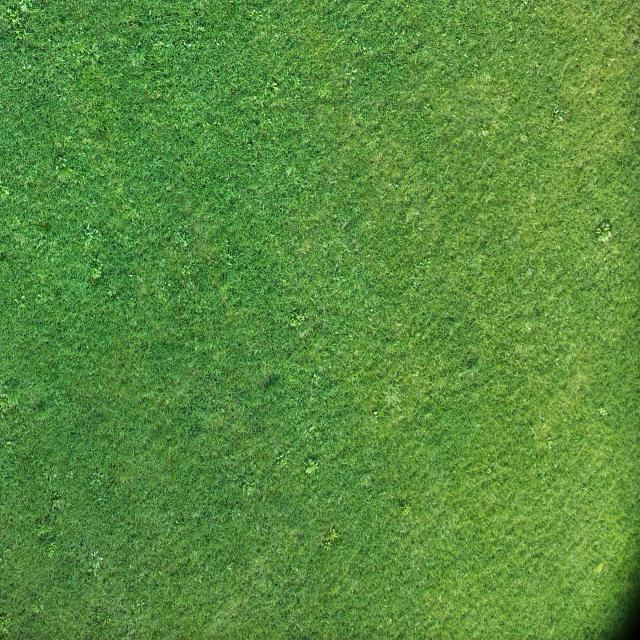rumex: (356, 350, 421, 440), (582, 221, 636, 302), (284, 304, 346, 356), (2, 378, 60, 428), (360, 140, 404, 184), (244, 3, 288, 42), (347, 27, 379, 68), (52, 151, 77, 185), (122, 35, 148, 66), (239, 464, 263, 495), (80, 226, 98, 249), (291, 310, 310, 329), (322, 526, 340, 546), (0, 392, 17, 413), (460, 352, 479, 370), (35, 522, 51, 542), (364, 118, 382, 135), (404, 208, 421, 224), (154, 289, 169, 307), (275, 450, 289, 468), (344, 70, 357, 88), (87, 398, 100, 416), (0, 614, 12, 633), (359, 475, 373, 490), (317, 86, 330, 101), (89, 548, 103, 561), (242, 483, 254, 498), (329, 583, 342, 596), (79, 52, 93, 64), (593, 562, 605, 576), (87, 46, 98, 61), (288, 314, 300, 327), (90, 474, 102, 487), (597, 232, 611, 243), (305, 458, 317, 470), (41, 220, 53, 232), (400, 503, 411, 516), (479, 124, 489, 138), (284, 165, 294, 179), (95, 493, 109, 503), (424, 188, 433, 203), (519, 0, 530, 12), (134, 599, 145, 611), (52, 498, 62, 511), (108, 288, 119, 299), (112, 36, 123, 47), (0, 185, 11, 196), (552, 107, 562, 119), (46, 544, 56, 556), (34, 602, 44, 614), (574, 163, 584, 175), (62, 135, 72, 146), (56, 172, 67, 182), (16, 30, 26, 41), (51, 490, 61, 501), (90, 269, 100, 280), (22, 61, 31, 73), (181, 40, 190, 51), (95, 556, 104, 567), (529, 192, 537, 204), (156, 38, 165, 48), (84, 228, 94, 237), (349, 130, 358, 140), (271, 85, 279, 96), (180, 238, 188, 248), (483, 72, 491, 82), (4, 440, 14, 448), (20, 4, 28, 14), (86, 566, 94, 576), (324, 540, 332, 550), (352, 36, 359, 47), (58, 156, 66, 165), (83, 223, 91, 232), (1, 393, 9, 402), (520, 136, 528, 145), (246, 137, 254, 146), (599, 407, 607, 416), (95, 383, 103, 392), (328, 527, 336, 536), (386, 616, 394, 625), (55, 57, 62, 67), (81, 138, 91, 145), (335, 263, 340, 276), (603, 222, 611, 230), (372, 413, 379, 422), (415, 31, 422, 40), (57, 94, 64, 103), (527, 267, 534, 276), (391, 43, 398, 51), (37, 240, 44, 248), (525, 324, 532, 332), (226, 259, 233, 267), (155, 92, 162, 100), (226, 564, 233, 572), (186, 43, 193, 50), (313, 374, 320, 381), (547, 441, 554, 448), (607, 58, 614, 65), (473, 61, 479, 69), (46, 39, 52, 47), (20, 296, 26, 304), (85, 200, 91, 208), (368, 307, 374, 315), (540, 416, 546, 424), (36, 292, 42, 300), (530, 427, 536, 435), (254, 348, 260, 356), (554, 357, 560, 365), (415, 580, 421, 588), (230, 403, 235, 412), (416, 332, 422, 339), (198, 27, 205, 33), (514, 359, 520, 366), (604, 265, 610, 272), (128, 272, 134, 278), (582, 486, 588, 492), (418, 226, 424, 232), (156, 202, 161, 209), (165, 399, 170, 406), (373, 410, 378, 416), (584, 38, 588, 44)
